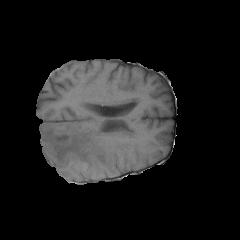glioma: (39, 122, 131, 179)
